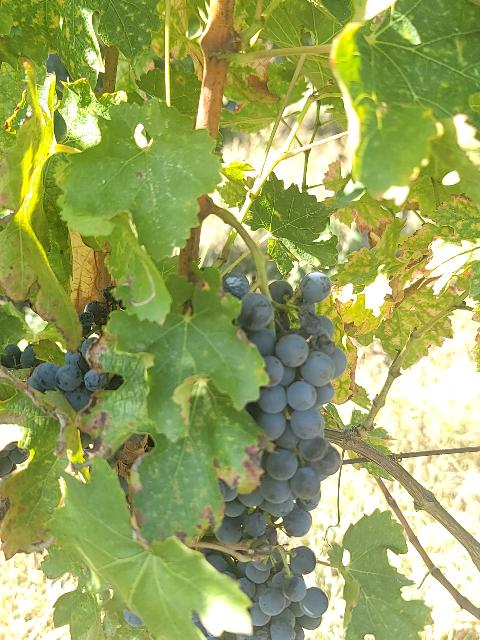grapes: (215, 271, 348, 545)
